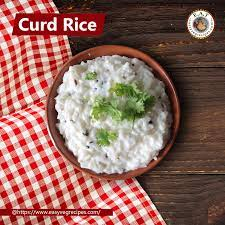curd_rice: (49, 49, 195, 191)
